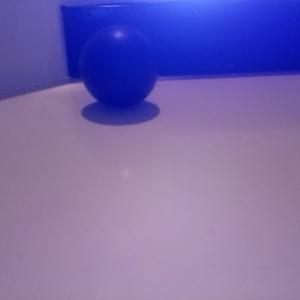dead_ball: (80, 26, 157, 108)
